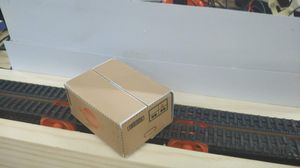box1: (63, 54, 175, 159)
